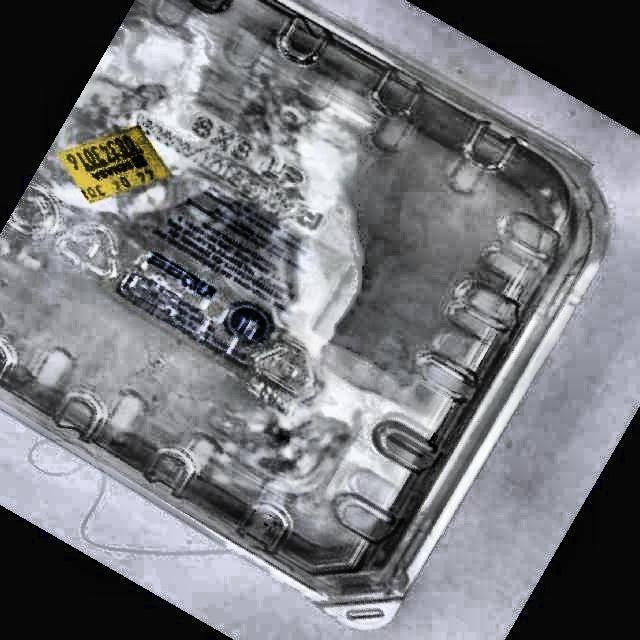plastic: (0, 0, 608, 626)
